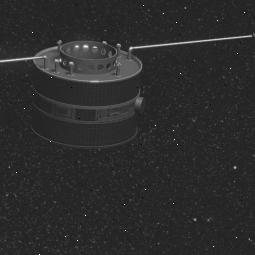double_start: (23, 32, 150, 150)
